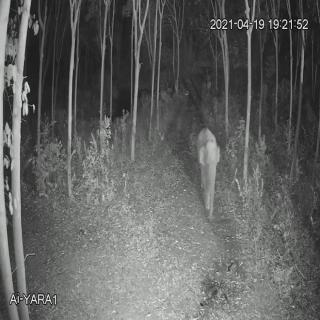Elephant: (193, 122, 223, 222)
